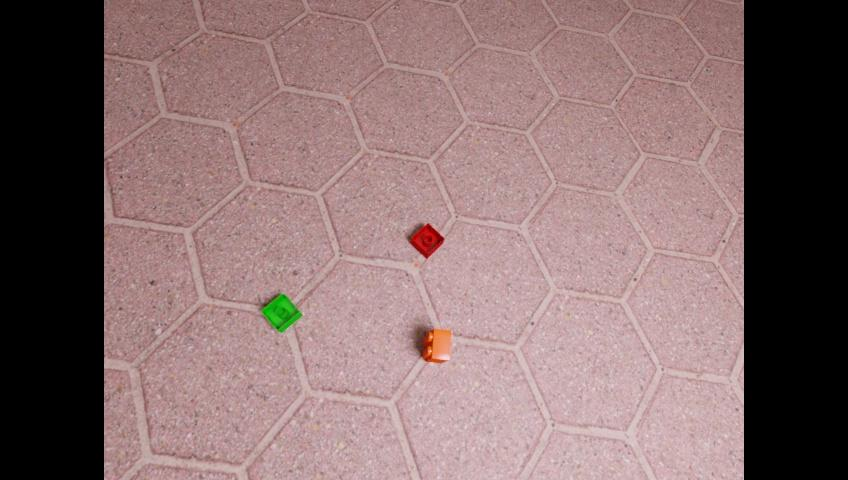2x2_green: (261, 292, 302, 332)
2x2_red: (410, 222, 443, 258)
4x2_orange: (423, 329, 451, 363)
